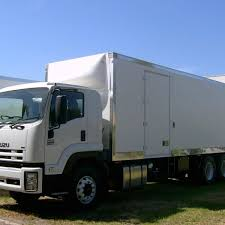truck: (1, 51, 225, 206)
